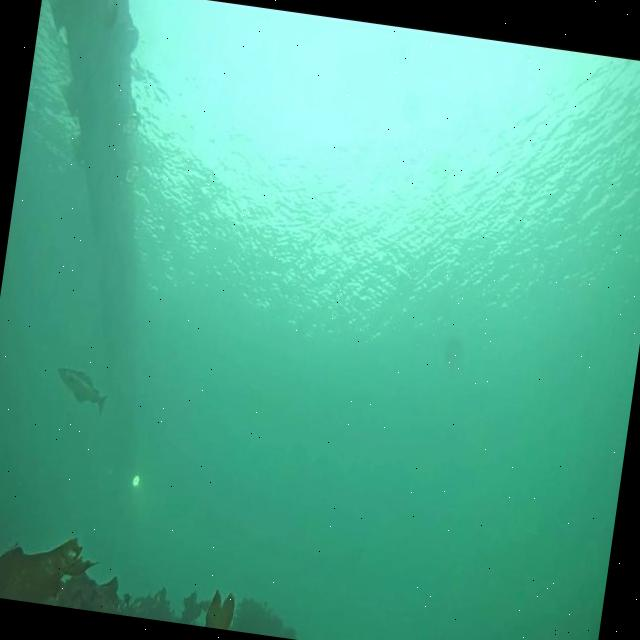fish: (52, 364, 112, 415)
